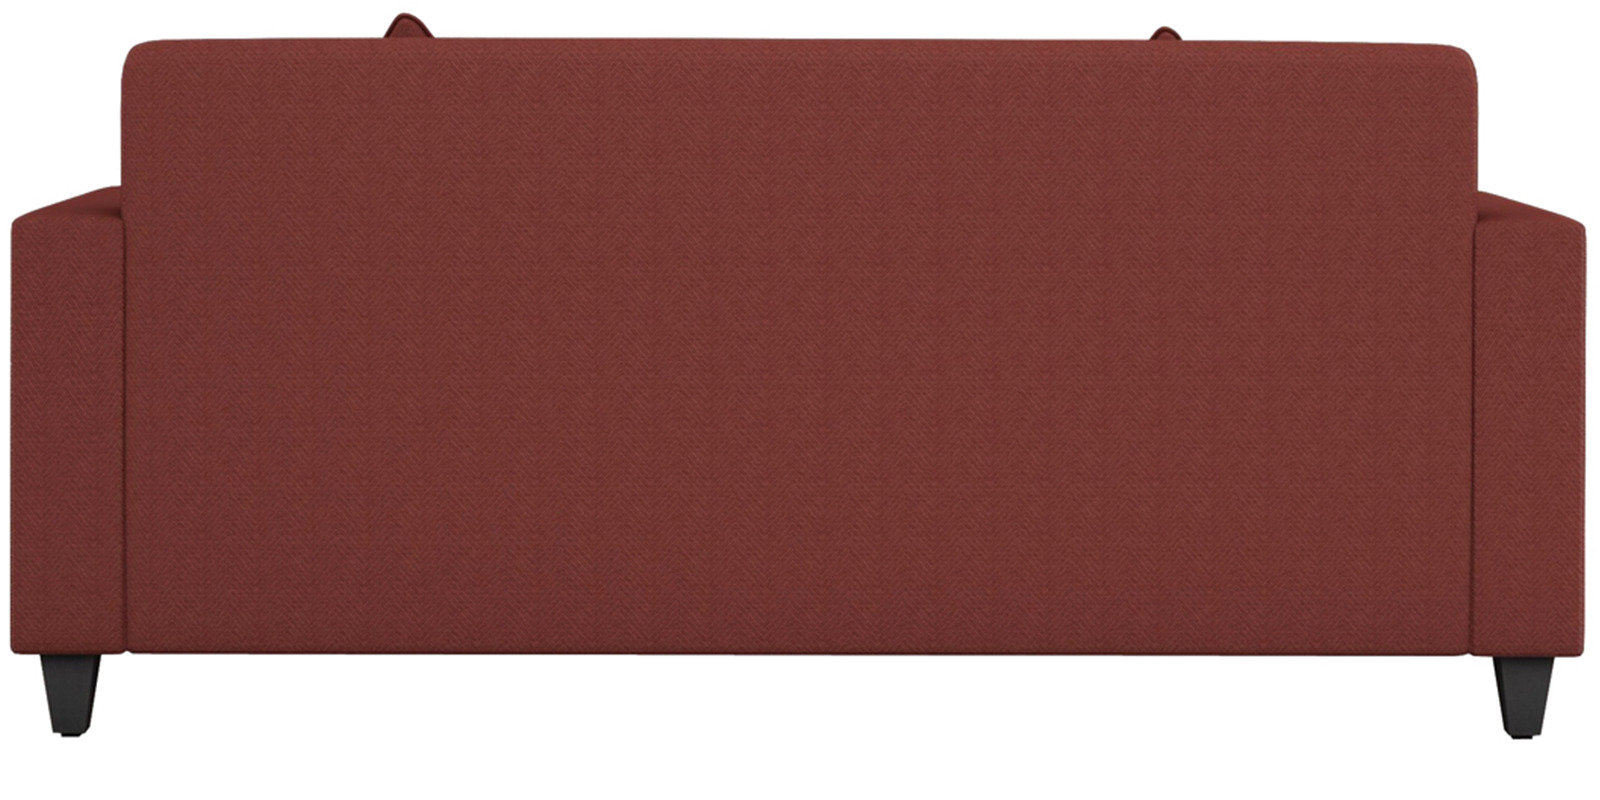Cooper Three Seater Sofa in Cherry Colour by ARRA: (14, 21, 1600, 752)
